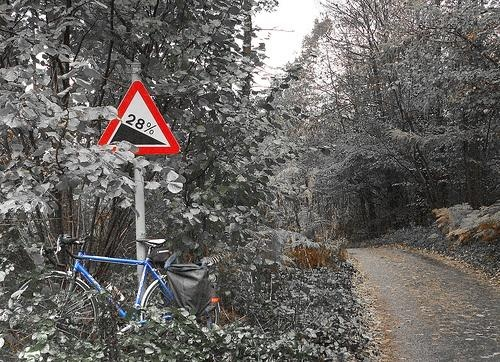bicycle: (26, 236, 232, 325)
